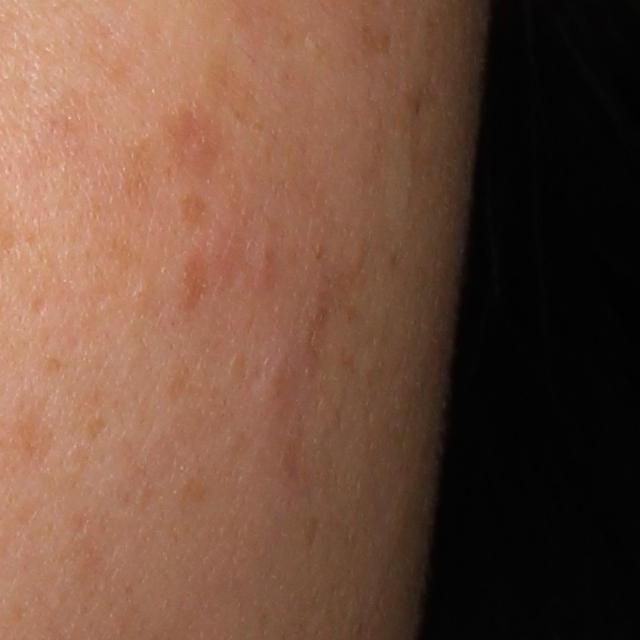atrophic_scar: (29, 294, 48, 315)
